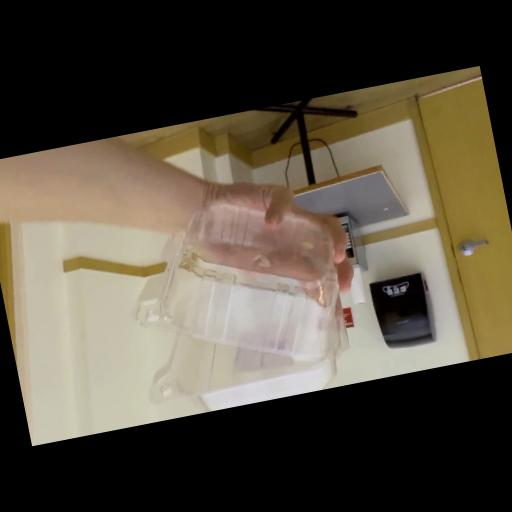small_plastic_container: (112, 170, 358, 422)
